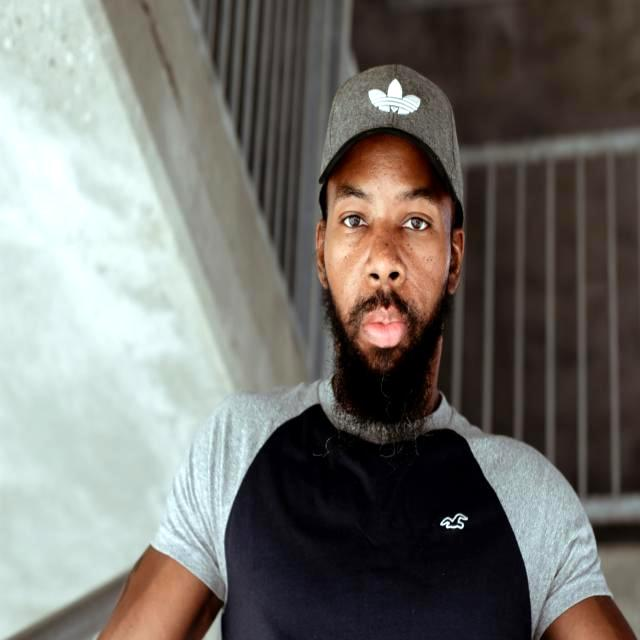no_hard_hat: (319, 64, 462, 201)
person: (123, 65, 629, 640)
